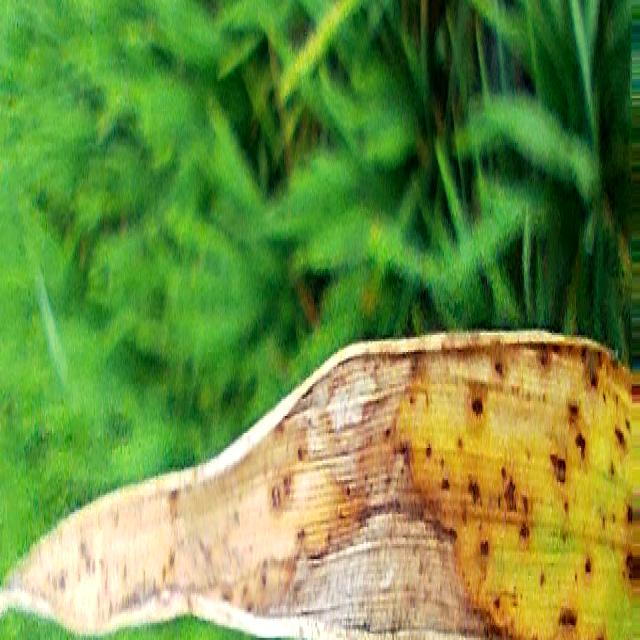NBS: (550, 452, 566, 482), (468, 480, 482, 507), (559, 608, 577, 627), (575, 430, 585, 456), (615, 428, 624, 453), (473, 395, 483, 414), (569, 402, 579, 421), (519, 523, 529, 540), (500, 589, 517, 598), (481, 540, 489, 557), (495, 365, 503, 378), (594, 638, 604, 640)
